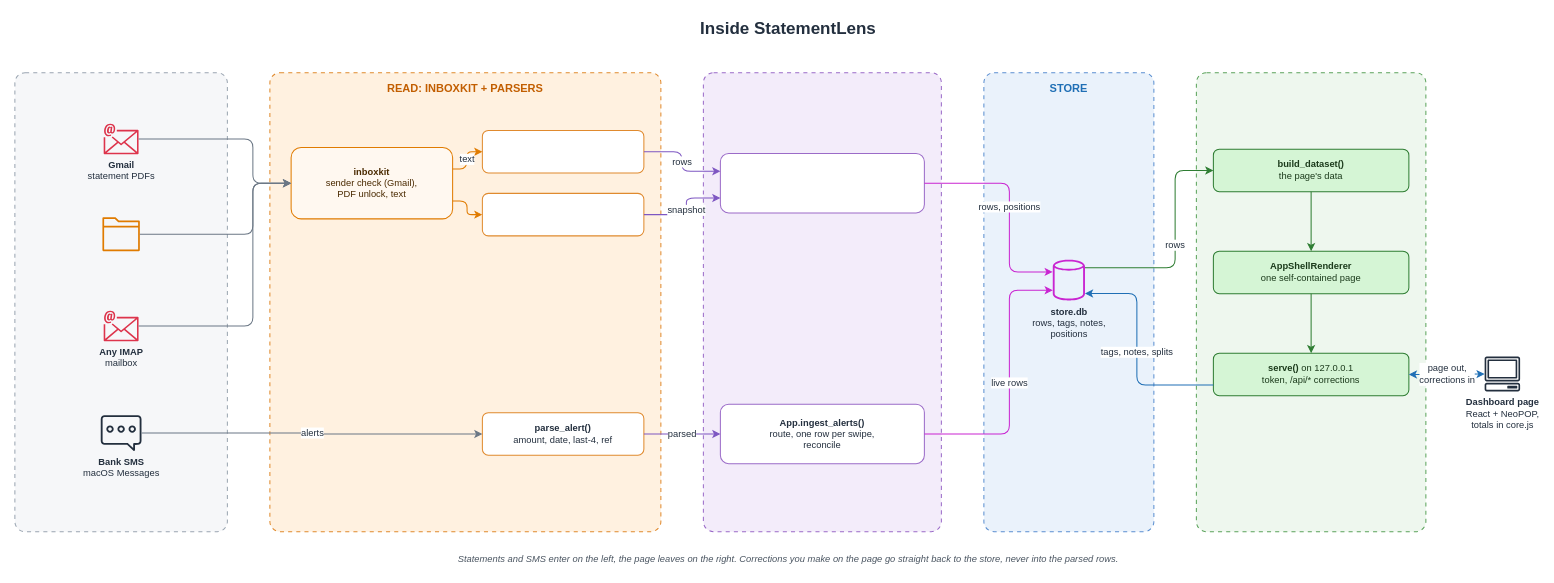
This 1554x583 diagram has some shape labels left out. Each missing label, with the box of its shape:
A folder of PDFs: (100, 217, 141, 251)
IngestStatements.run() duplicates by file, movement and row: (719, 152, 924, 213)
ParserRegistry bank + card statements: (481, 130, 644, 173)
Positions (inboxkit) loan, FD, NPS: (481, 192, 644, 236)
READ AND SERVE: (1195, 72, 1426, 532)
SOURCES: (14, 72, 227, 532)
WRITE: USE-CASES: (702, 72, 941, 532)
